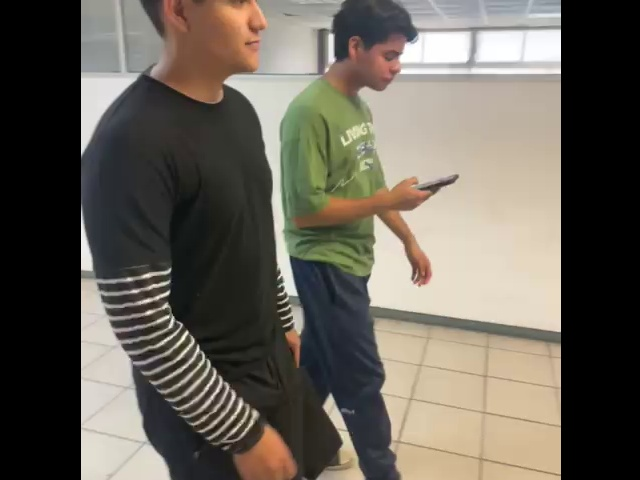mixto2: (415, 160, 464, 197)
